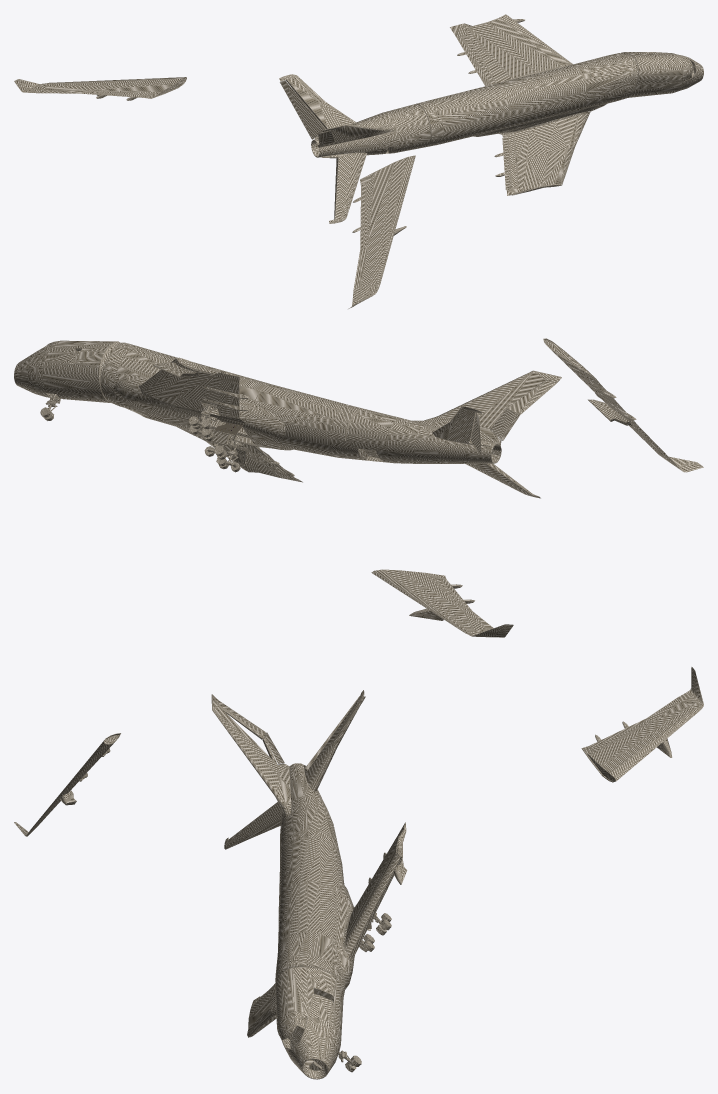
Rendered from Neoflywreckedplane6.gltf.
3 views of the same model, one above another, from view 1: azimuth 30°, elevation 25°; view 2: azimuth 150°, elevation 25°; view 3: azimuth 270°, elevation 25° (orthographic). The views are drawn at different scales.
Visible parts, largest first — view 1: Airplane_Damage, Airplane_Damage.001, Airplane_Damage.002; view 2: Airplane_Damage, Airplane_Damage.002, Airplane_Damage.001; view 3: Airplane_Damage, Airplane_Damage.002, Airplane_Damage.001.
Boxes of the visible parts, x1,y1,x2,y2 form: Airplane_Damage: (279,14,703,223); Airplane_Damage.001: (348,155,415,308); Airplane_Damage.002: (14,77,186,100); Airplane_Damage: (14,340,561,498); Airplane_Damage.002: (371,569,513,637); Airplane_Damage.001: (543,338,703,472); Airplane_Damage: (211,690,407,1079); Airplane_Damage.002: (581,667,703,782); Airplane_Damage.001: (14,733,120,836).
Bounding box in the file's own units: 55.45 × 13.24 × 43.81.
